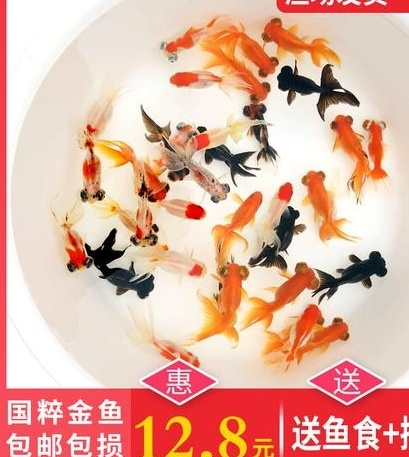fry: (209, 253, 251, 345), (281, 298, 332, 349), (338, 244, 392, 291), (306, 313, 352, 363), (257, 13, 311, 55), (227, 188, 267, 243), (149, 26, 201, 68), (323, 104, 363, 157), (273, 263, 322, 306), (112, 262, 161, 304), (274, 62, 319, 107), (61, 109, 109, 150), (298, 163, 335, 216), (155, 132, 192, 185), (128, 165, 171, 207), (236, 101, 275, 146), (123, 213, 164, 255), (361, 109, 392, 162), (54, 236, 96, 275), (231, 70, 275, 106), (157, 343, 208, 374), (168, 246, 210, 283), (268, 205, 301, 251), (74, 167, 109, 209), (170, 198, 212, 229), (165, 67, 216, 91), (202, 143, 241, 174), (198, 179, 237, 208), (248, 46, 281, 78), (268, 174, 294, 210), (184, 130, 219, 153)
